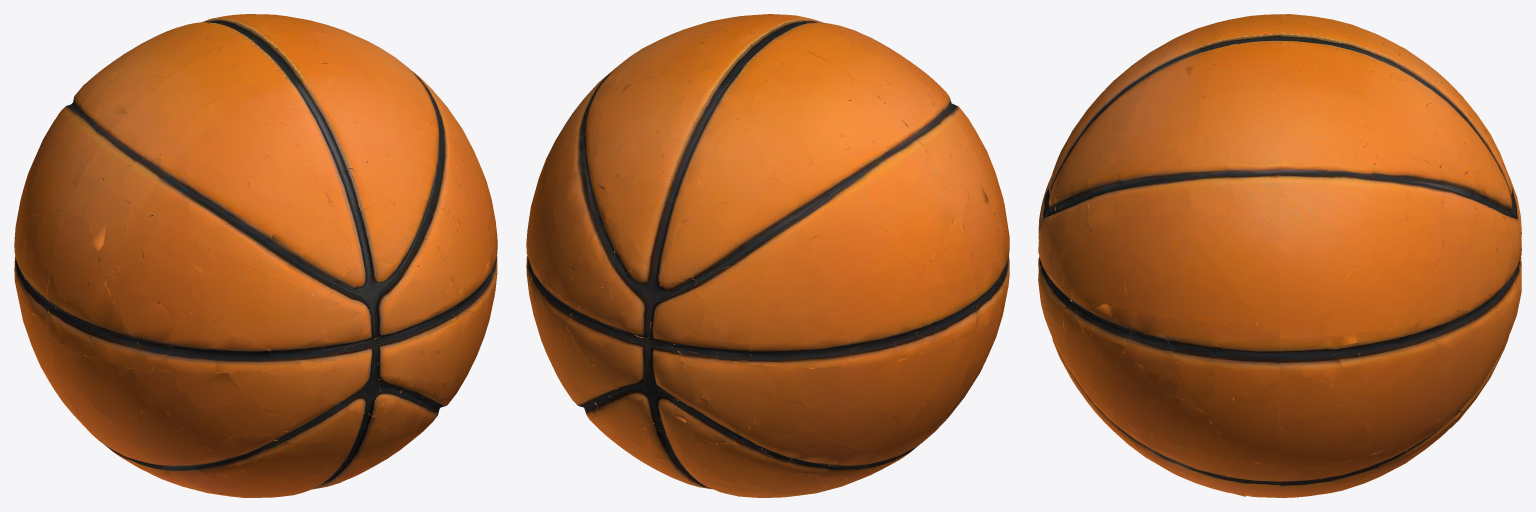
File: ball-basketball.glb
3 views of the same model, side by side, from view 1: azimuth 30°, elevation 25°; view 2: azimuth 150°, elevation 25°; view 3: azimuth 270°, elevation 25° (orthographic).
Visible parts, largest first — view 1: Mesh_0; view 2: Mesh_0; view 3: Mesh_0.
Part boxes in pixels (x1,y1,x2,y2): Mesh_0: [14, 14, 497, 497]; Mesh_0: [526, 14, 1009, 497]; Mesh_0: [1038, 14, 1521, 497].
Size of the model in its own units: 0.2402 by 0.2401 by 0.2401.
1 material, 1 textured.
